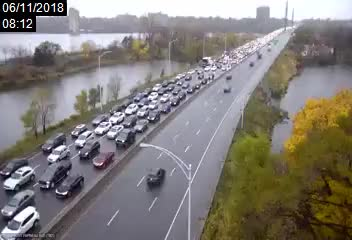congestion: (1, 134, 118, 240), (49, 105, 141, 166), (125, 75, 183, 117), (165, 62, 217, 90), (195, 55, 229, 75)
personal_car: (3, 206, 42, 240), (1, 188, 37, 218), (40, 161, 72, 190), (5, 165, 37, 192), (54, 174, 86, 198), (1, 154, 29, 178), (91, 149, 116, 170), (42, 132, 66, 153), (147, 165, 165, 189), (45, 146, 73, 161), (79, 141, 101, 159), (118, 130, 135, 150), (75, 130, 94, 146), (106, 124, 123, 138), (96, 121, 111, 135), (133, 119, 149, 132), (72, 123, 86, 137), (147, 110, 161, 123), (109, 113, 124, 125), (92, 113, 108, 124), (124, 103, 138, 115), (137, 105, 148, 119), (124, 115, 136, 127), (110, 104, 122, 115), (222, 83, 233, 94), (159, 104, 171, 114), (147, 99, 158, 109), (148, 92, 159, 101), (142, 86, 151, 97), (170, 96, 179, 106), (160, 93, 169, 103), (177, 91, 186, 100), (152, 83, 161, 92), (122, 99, 131, 108), (172, 87, 182, 95), (134, 92, 142, 102), (184, 73, 193, 81), (224, 73, 233, 81), (191, 82, 201, 89), (200, 77, 208, 85), (165, 84, 174, 91), (187, 86, 194, 94), (182, 81, 189, 89), (169, 76, 176, 84), (210, 65, 217, 72), (207, 73, 214, 80), (204, 64, 210, 72), (186, 68, 194, 74), (175, 79, 183, 85), (162, 79, 168, 87), (197, 74, 204, 80), (176, 73, 182, 80), (197, 68, 203, 74)
truck: (201, 56, 210, 66)
